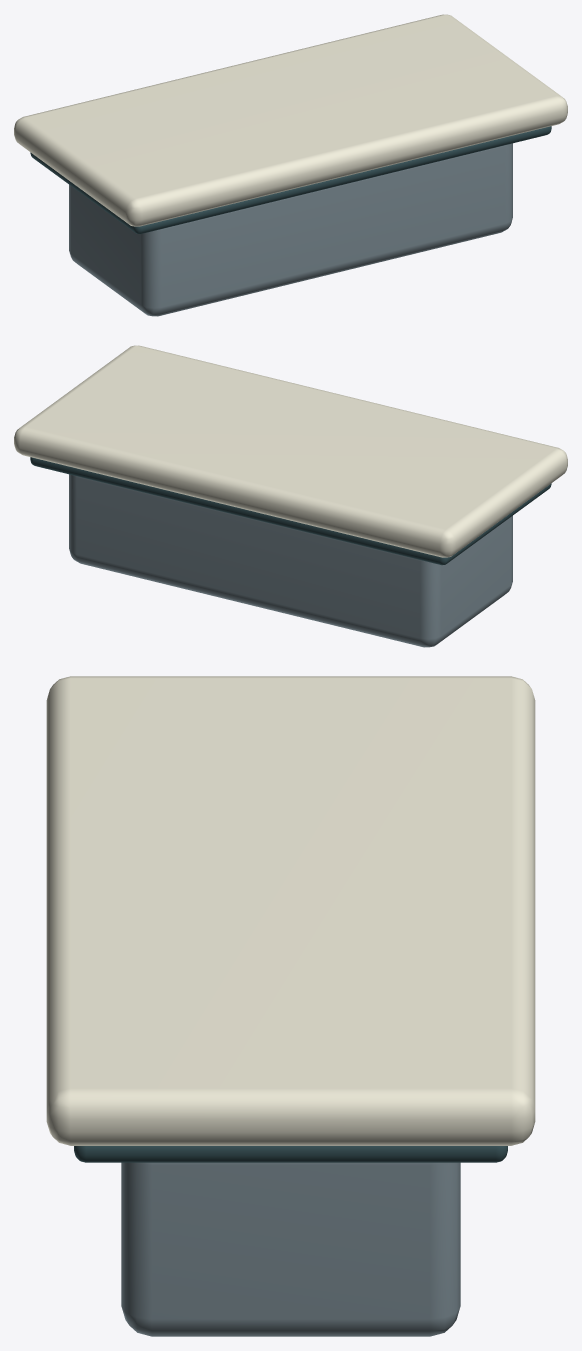
Rendered from city_seating_02.glb.
The picture shows the model from 3 angles, top to bottom: view 1: azimuth 30°, elevation 25°; view 2: azimuth 150°, elevation 25°; view 3: azimuth 270°, elevation 25°; orthographic projection. The views are drawn at different scales.
Parts seen in each view (by area): view 1: CitySeating02_Mesh; view 2: CitySeating02_Mesh; view 3: CitySeating02_Mesh.
Part boxes in pixels (<box>): CitySeating02_Mesh: <box>14,14,567,316</box>; CitySeating02_Mesh: <box>14,345,567,647</box>; CitySeating02_Mesh: <box>46,676,535,1336</box>.
Bounding box in the file's own units: 1.5 × 0.46 × 0.72.
